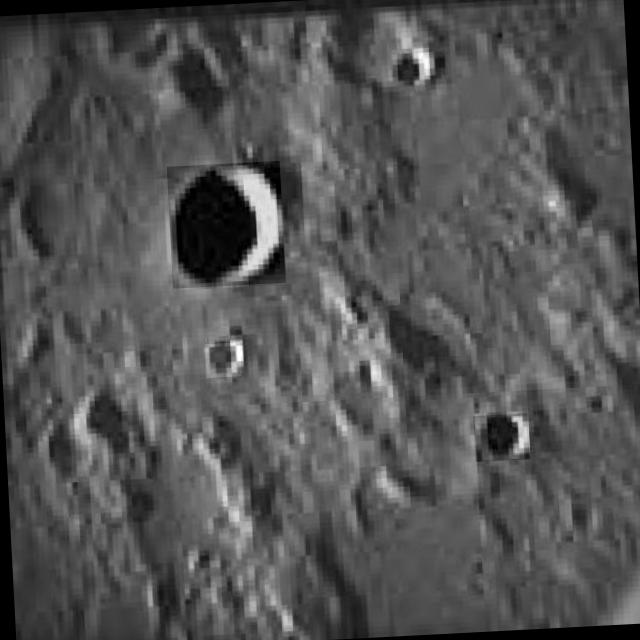crater: (167, 162, 286, 288), (474, 413, 530, 462), (391, 47, 431, 88), (205, 342, 242, 378)
